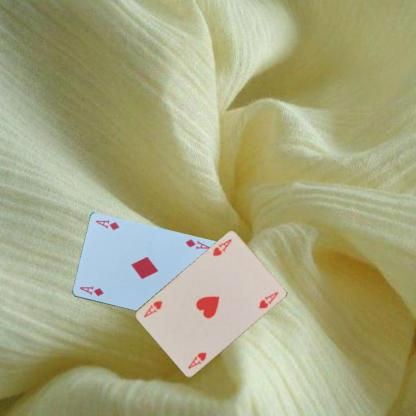Ad: (77, 284, 104, 298), (183, 237, 210, 251)
Ah: (210, 236, 233, 258), (185, 350, 208, 370)
